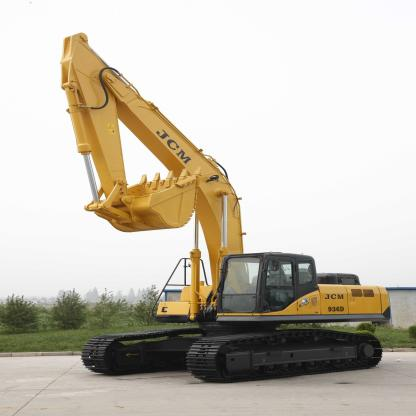excavator: (20, 24, 394, 384)
